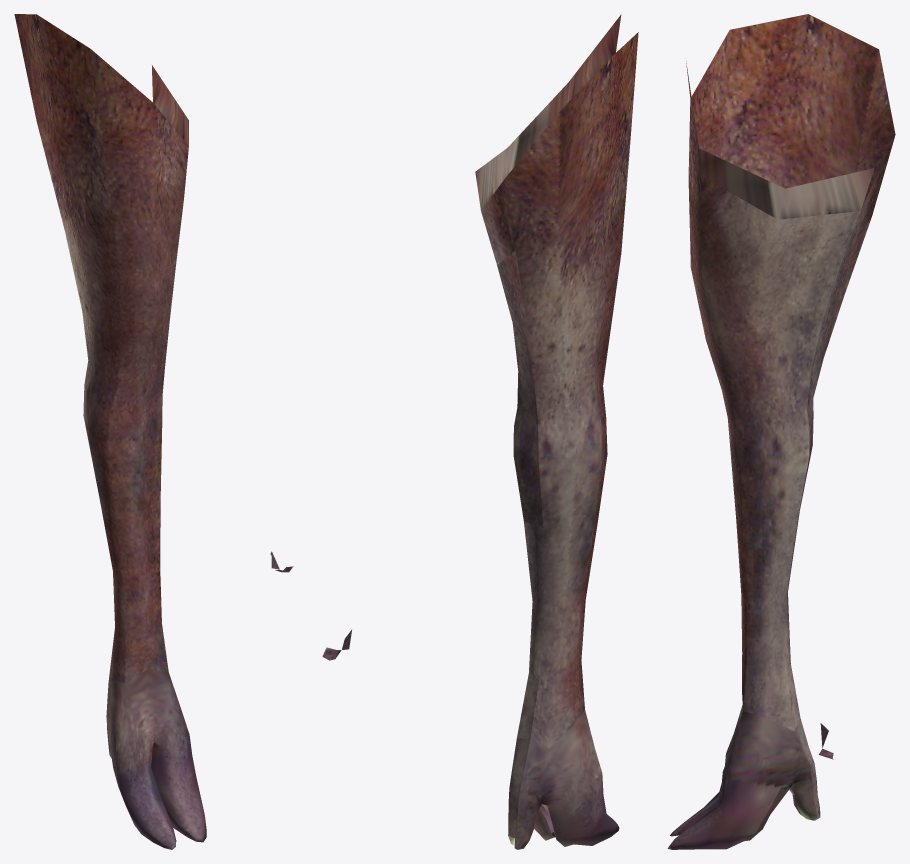
Rendered from Ciervo_frightleg.obj.
3 views of the same model, side by side, from view 1: azimuth 30°, elevation 25°; view 2: azimuth 150°, elevation 25°; view 3: azimuth 270°, elevation 25° (orthographic). The views are drawn at different scales.
Parts seen in each view (by area): view 1: Body_body.002; view 2: Body_body.002; view 3: Body_body.002.
Boxes of the visible parts, bbox=[...] form: Body_body.002: bbox=[14, 14, 293, 849]; Body_body.002: bbox=[322, 14, 638, 849]; Body_body.002: bbox=[667, 14, 895, 849].
Size of the model in its own units: 1.04 by 3.01 by 0.7868.
